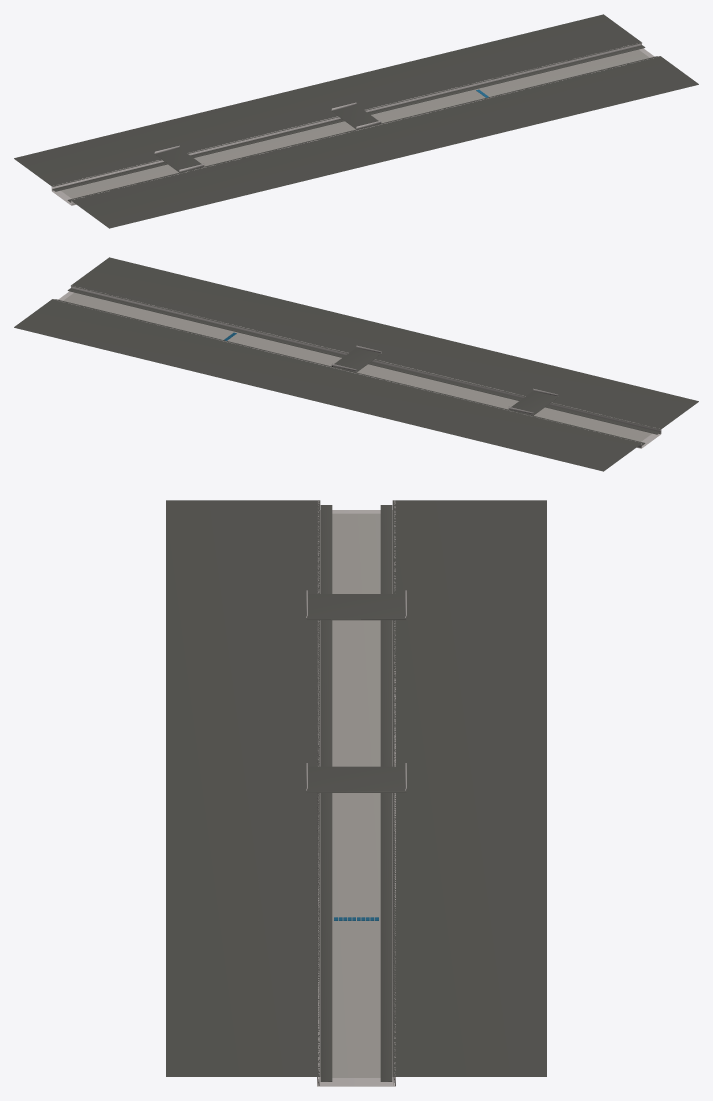
3 renders of one model, top to bottom at view 1: azimuth 30°, elevation 25°; view 2: azimuth 150°, elevation 25°; view 3: azimuth 270°, elevation 25°, orthographic. The views are drawn at different scales.
Visible parts, largest first — view 1: city_ground_level_banks, water_surface_plane, streamside_promenade_walkway, retaining_wall_stone_chute_neg2_5m, stone_arch_bridges_mojeongyo_gwangtonggyo; view 2: city_ground_level_banks, water_surface_plane, streamside_promenade_walkway, retaining_wall_stone_chute_neg2_5m, stone_arch_bridges_mojeongyo_gwangtonggyo; view 3: city_ground_level_banks, water_surface_plane, streamside_promenade_walkway, stone_arch_bridges_mojeongyo_gwangtonggyo, retaining_wall_stone_chute_neg2_5m, channel_bed_du_shape.
Part boxes in pixels (left/top/right/bottom): city_ground_level_banks: left=14, top=14, right=698, bottom=228; water_surface_plane: left=61, top=49, right=649, bottom=198; streamside_promenade_walkway: left=52, top=45, right=657, bottom=202; retaining_wall_stone_chute_neg2_5m: left=51, top=42, right=659, bottom=205; stone_arch_bridges_mojeongyo_gwangtonggyo: left=154, top=104, right=381, bottom=172; city_ground_level_banks: left=14, top=257, right=698, bottom=471; water_surface_plane: left=63, top=292, right=651, bottom=441; streamside_promenade_walkway: left=55, top=288, right=660, bottom=445; retaining_wall_stone_chute_neg2_5m: left=52, top=285, right=661, bottom=448; stone_arch_bridges_mojeongyo_gwangtonggyo: left=331, top=347, right=558, bottom=415; city_ground_level_banks: left=166, top=500, right=546, bottom=1076; water_surface_plane: left=332, top=513, right=380, bottom=1077; streamside_promenade_walkway: left=320, top=505, right=392, bottom=1081; stone_arch_bridges_mojeongyo_gwangtonggyo: left=306, top=594, right=406, bottom=792; retaining_wall_stone_chute_neg2_5m: left=317, top=500, right=395, bottom=1085; channel_bed_du_shape: left=317, top=510, right=395, bottom=1086.
Size of the model in its own units: 300 by 7.87 by 84.
Materials: 4 (4 with a texture image).
